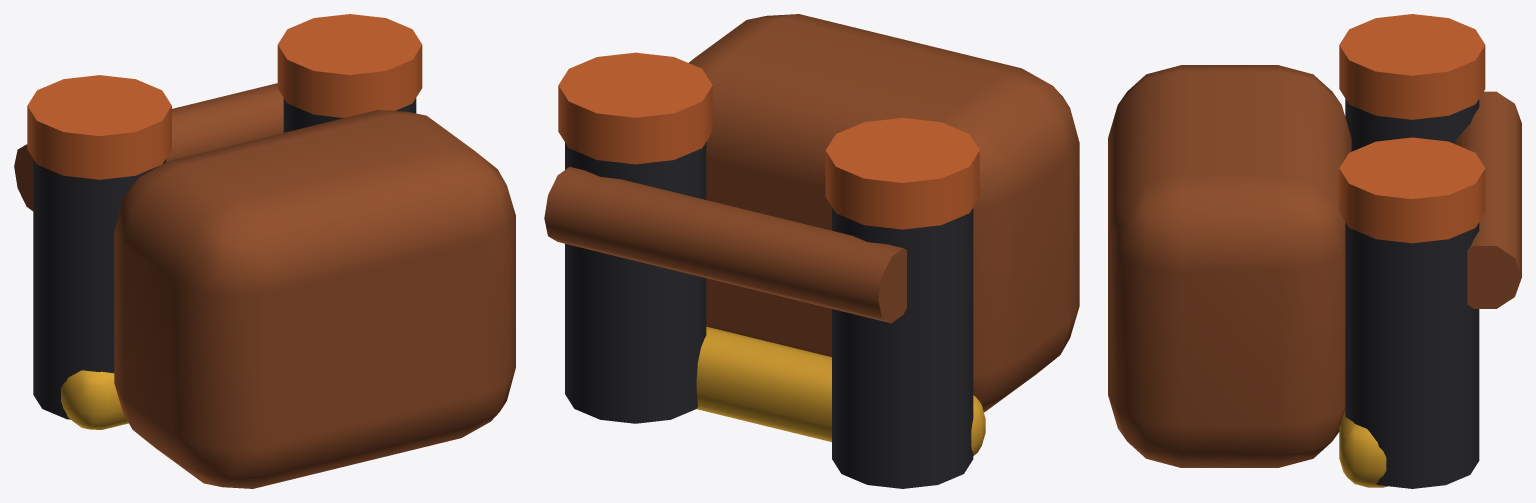
The model's file is mo_bypass.glb.
3 renders of one model, left to right at view 1: azimuth 30°, elevation 25°; view 2: azimuth 150°, elevation 25°; view 3: azimuth 270°, elevation 25°, orthographic. The views are drawn at different scales.
Visible parts, largest first — view 1: mo_bypass; view 2: mo_bypass; view 3: mo_bypass.
Boxes of the visible parts, left/top/right/bottom form: mo_bypass: left=14, top=14, right=515, bottom=488; mo_bypass: left=544, top=14, right=1079, bottom=488; mo_bypass: left=1108, top=14, right=1521, bottom=488.
Size of the model in its own units: 0.1548 by 0.1182 by 0.1462.
